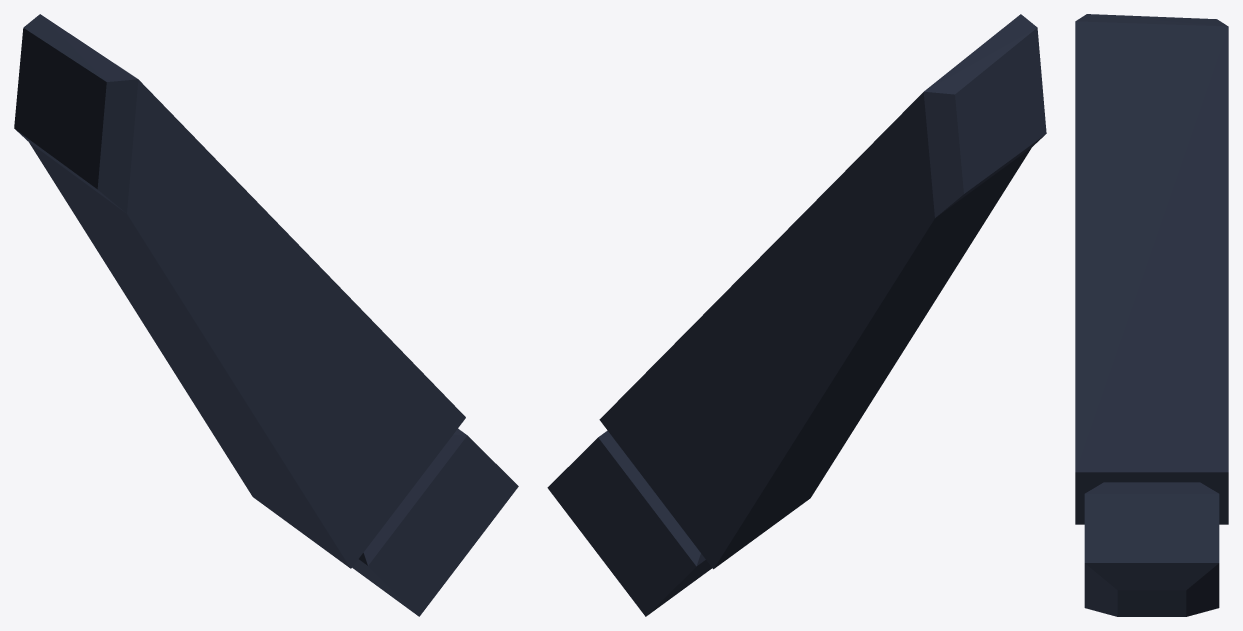
Rendered from float_L_arm.obj.
The picture shows the model from 3 angles, left to right: view 1: azimuth 30°, elevation 25°; view 2: azimuth 150°, elevation 25°; view 3: azimuth 270°, elevation 25°; orthographic projection. The views are drawn at different scales.
Visible parts, largest first — view 1: C_Hand_L; view 2: C_Hand_L; view 3: C_Hand_L.
Boxes of the visible parts, x1,y1,x2,y2 form: C_Hand_L: (14, 14, 518, 616); C_Hand_L: (547, 14, 1046, 616); C_Hand_L: (1075, 14, 1228, 616).
Bounding box in the file's own units: 0.6118 × 0.8525 × 0.2481.
1 material, 1 textured.
